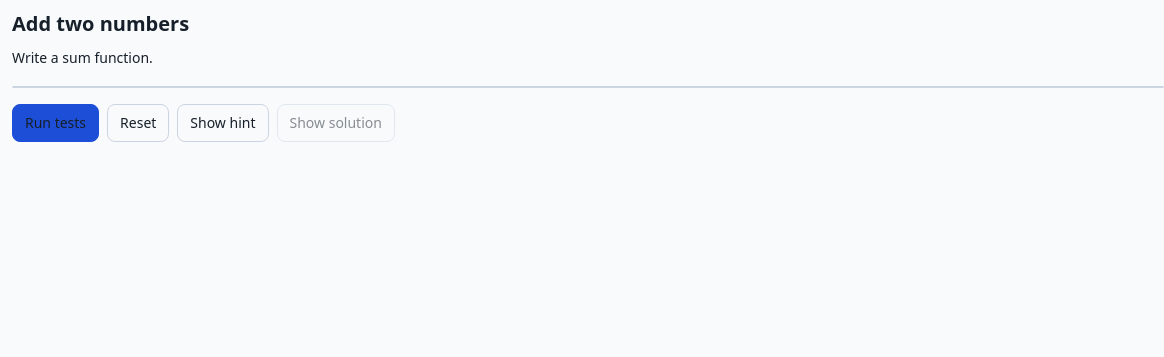
Test: CodeChallenge › shows passing test results and gates solution reveal until the first run
Expected: the button "Show solution" is disabled, top-left (276, 104), bottom-right (395, 142)
Click the button "Run tests".
click(56, 123)  # box top-left (12, 104), bottom-right (99, 142)
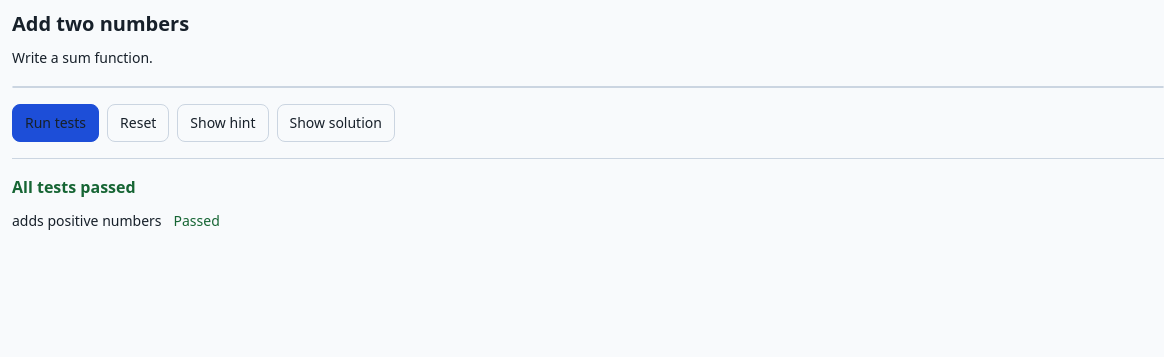
Expected: the heading "All tests passed" is shown, top-left (12, 176), bottom-right (136, 198)
Expected: the text "adds positive numbers" is shown, top-left (12, 211), bottom-right (162, 231)
Expected: the text "Passed" is shown, top-left (174, 211), bottom-right (220, 231)
Click the button "Show solution".
click(336, 123)  # box top-left (276, 104), bottom-right (395, 142)
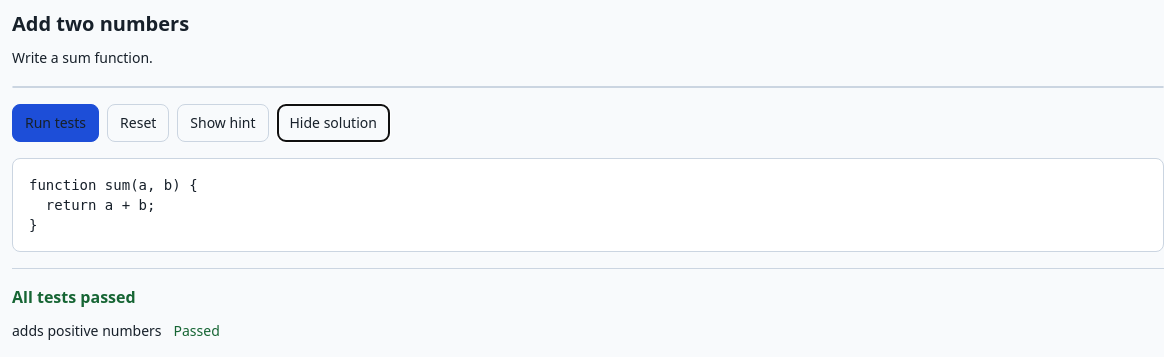
Expected: the text "function sum(a, b) { return a + b; }" is shown, top-left (29, 177), bottom-right (198, 233)
